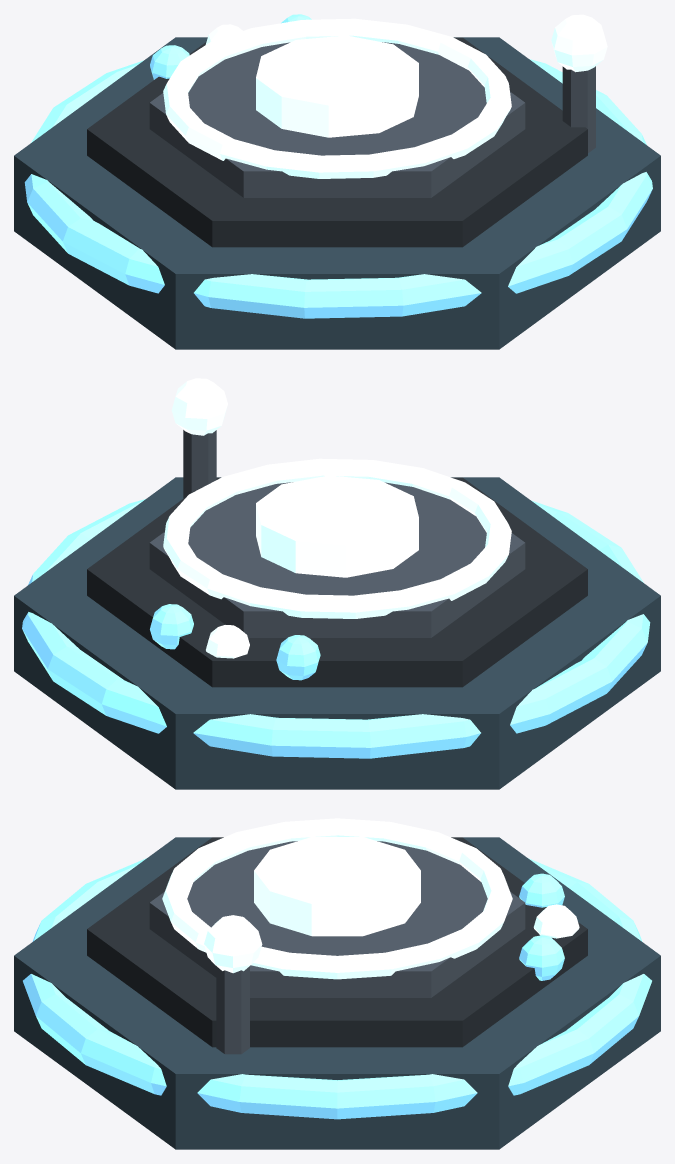
The model's file is prop_shield.glb.
The picture shows the model from 3 angles, top to bottom: view 1: azimuth 30°, elevation 25°; view 2: azimuth 150°, elevation 25°; view 3: azimuth 270°, elevation 25°; orthographic projection.
Visible parts, largest first — view 1: prop_shield; view 2: prop_shield; view 3: prop_shield.
Part boxes in pixels (x1,y1,x2,y2): prop_shield: (14, 14, 660, 349); prop_shield: (14, 378, 660, 789); prop_shield: (14, 818, 660, 1149).
Bounding box in the file's own units: 0.304 × 0.1465 × 0.31.
